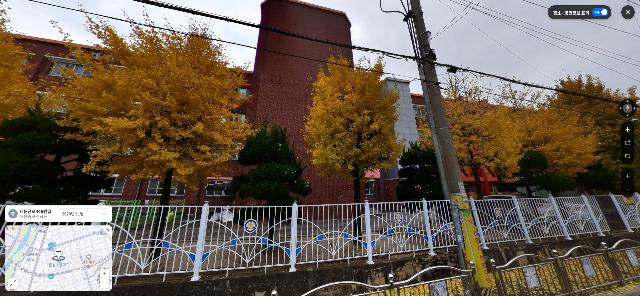ginkgo: (31, 5, 259, 257), (301, 47, 407, 242), (413, 68, 524, 198), (487, 72, 597, 194), (552, 69, 639, 196)
other: (0, 97, 111, 231), (227, 118, 312, 240), (395, 139, 448, 222), (497, 149, 577, 198)
